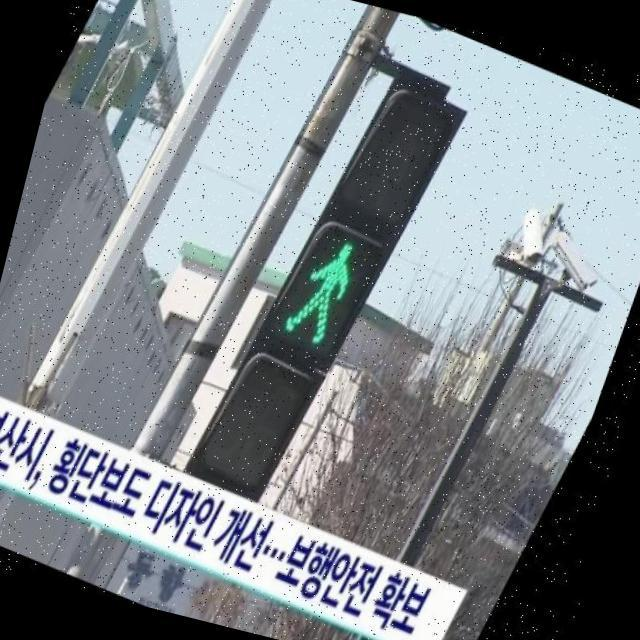greenlight: (259, 73, 467, 381)
